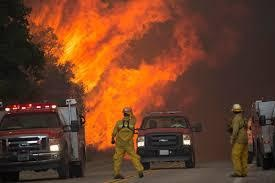fire: (32, 5, 202, 157)
